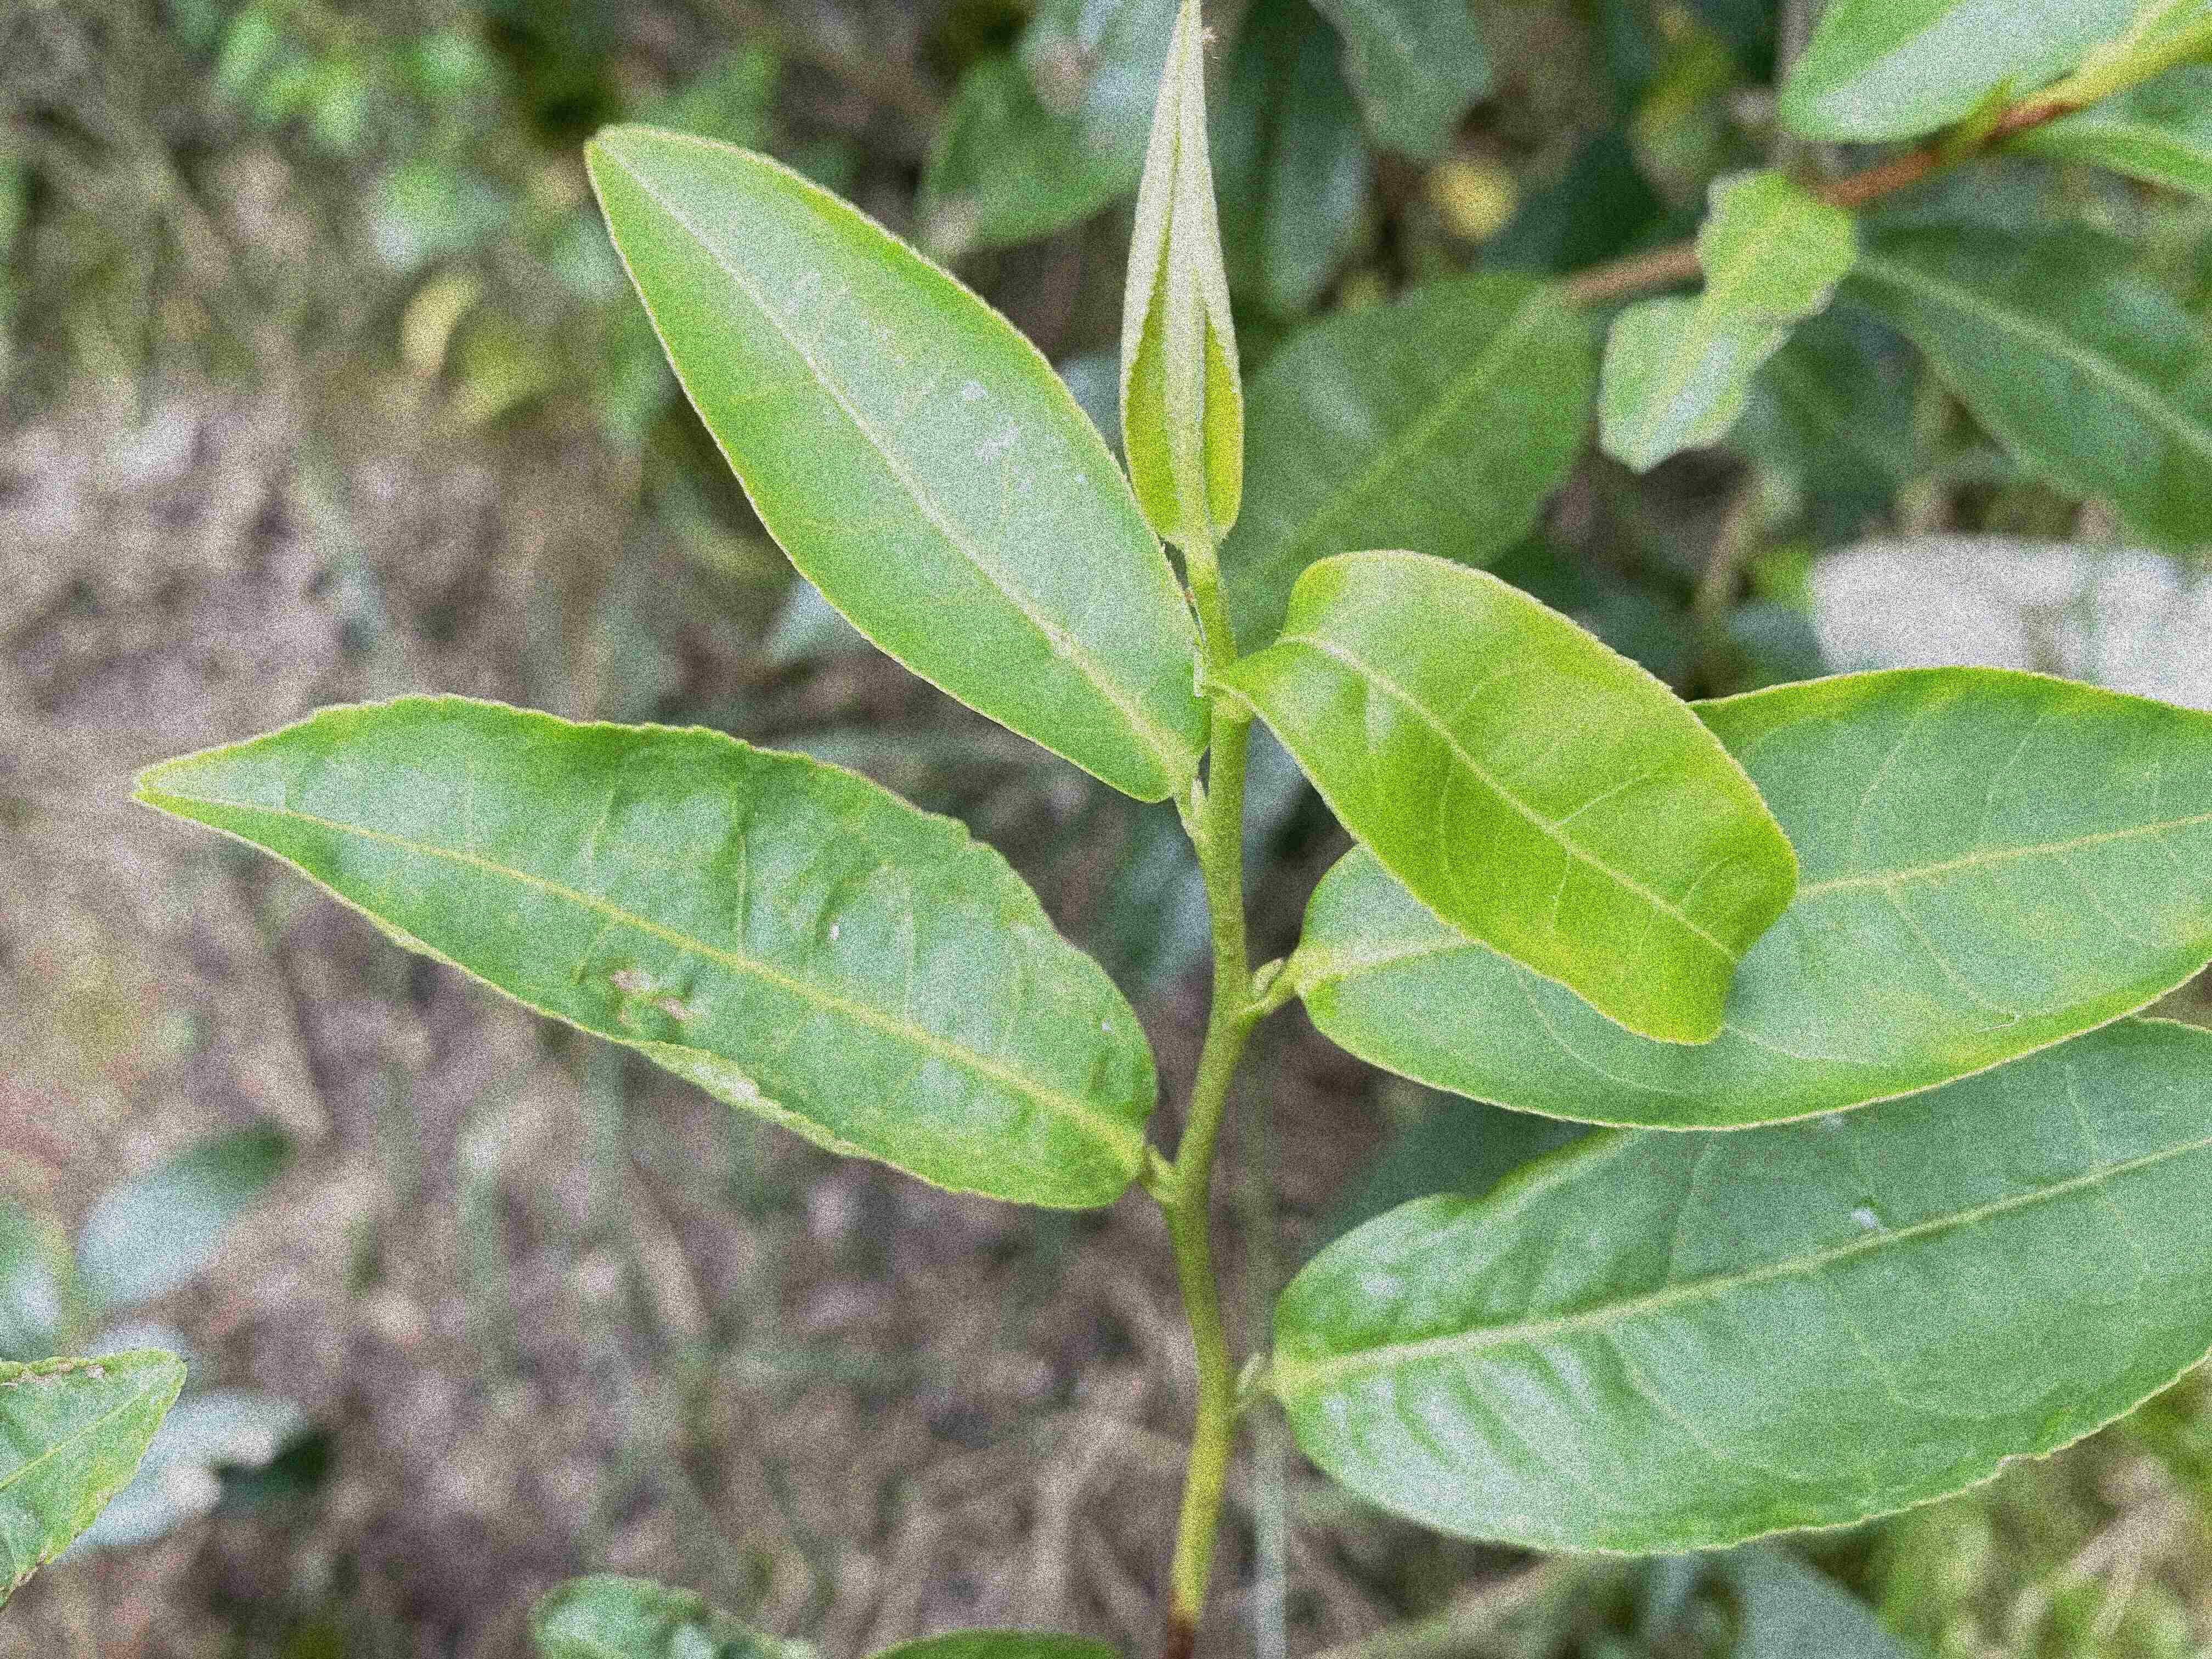healthy: (1266, 1012, 2209, 1558), (1285, 662, 2212, 1134), (582, 125, 1209, 803), (1202, 545, 1799, 1047)
tanju_low: (127, 688, 1160, 1211)
